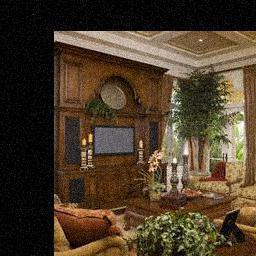Matera: (174, 75, 217, 173)
